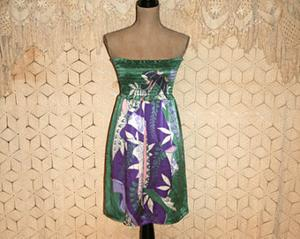C_dress: (99, 48, 198, 228)
